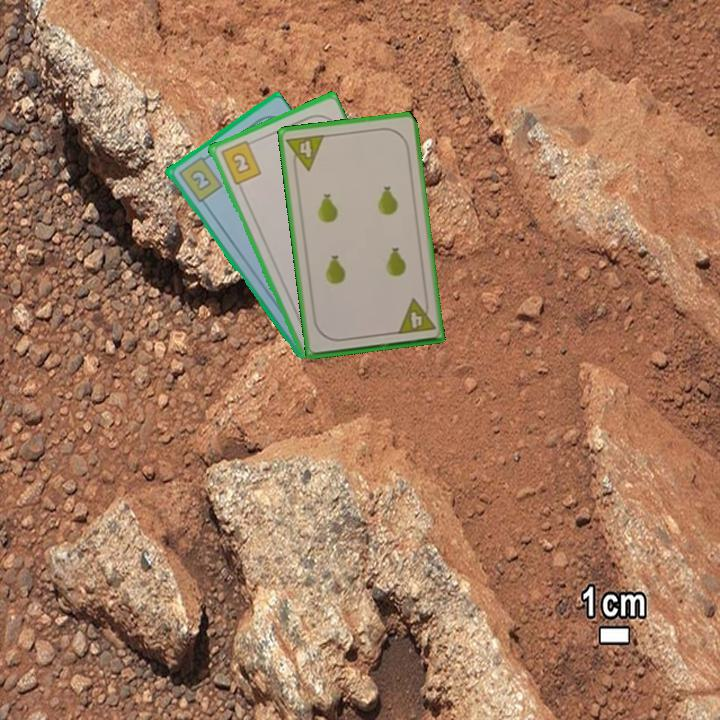2b: (174, 151, 225, 205), (217, 136, 264, 187)
4p: (283, 131, 327, 175), (393, 294, 438, 337)
